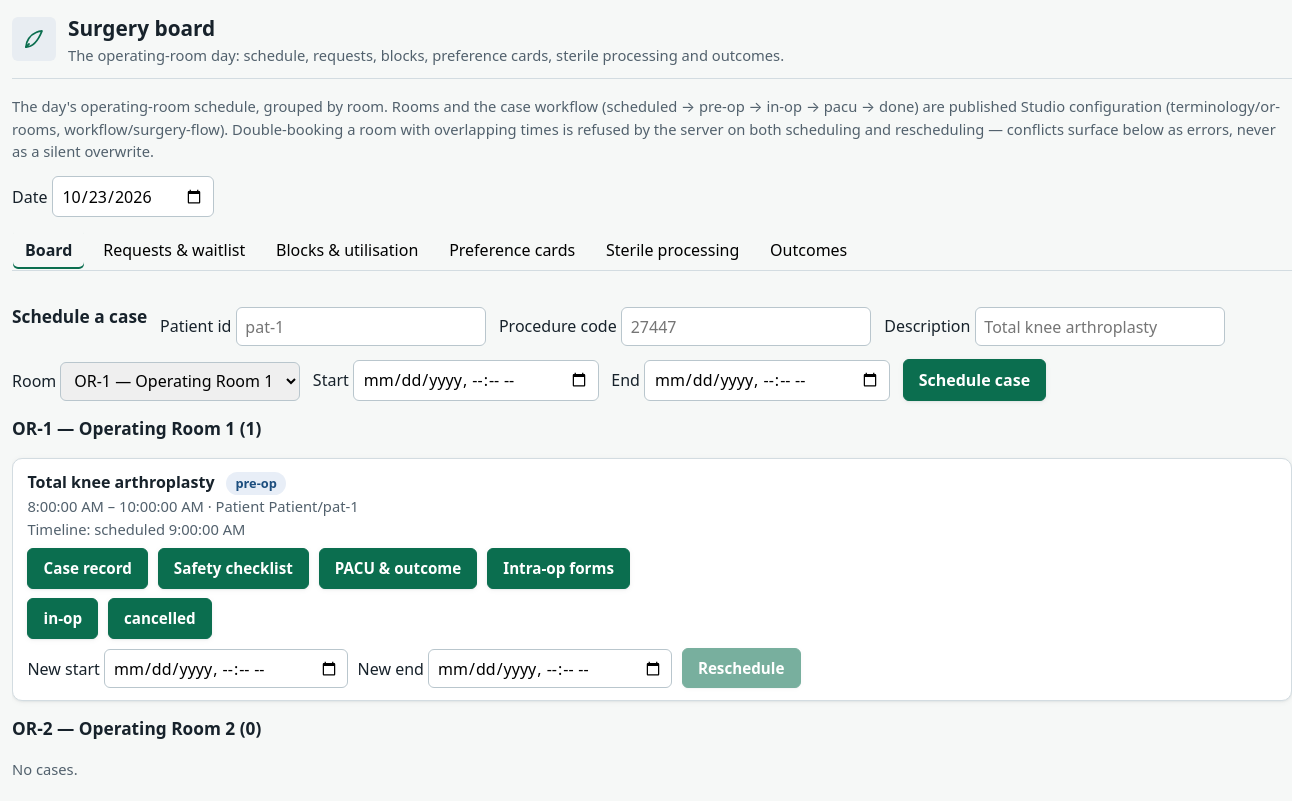
SurgeryBoardPage › surfaces the safety gate 409 inline when a transition is refused
This screenshot has width=1292, height=801.
Expected: the text "Total knee arthroplasty" is shown, 27,471 -> 214,493
Click the button "in-op": {"x": 63, "y": 618} 27,598 -> 98,639
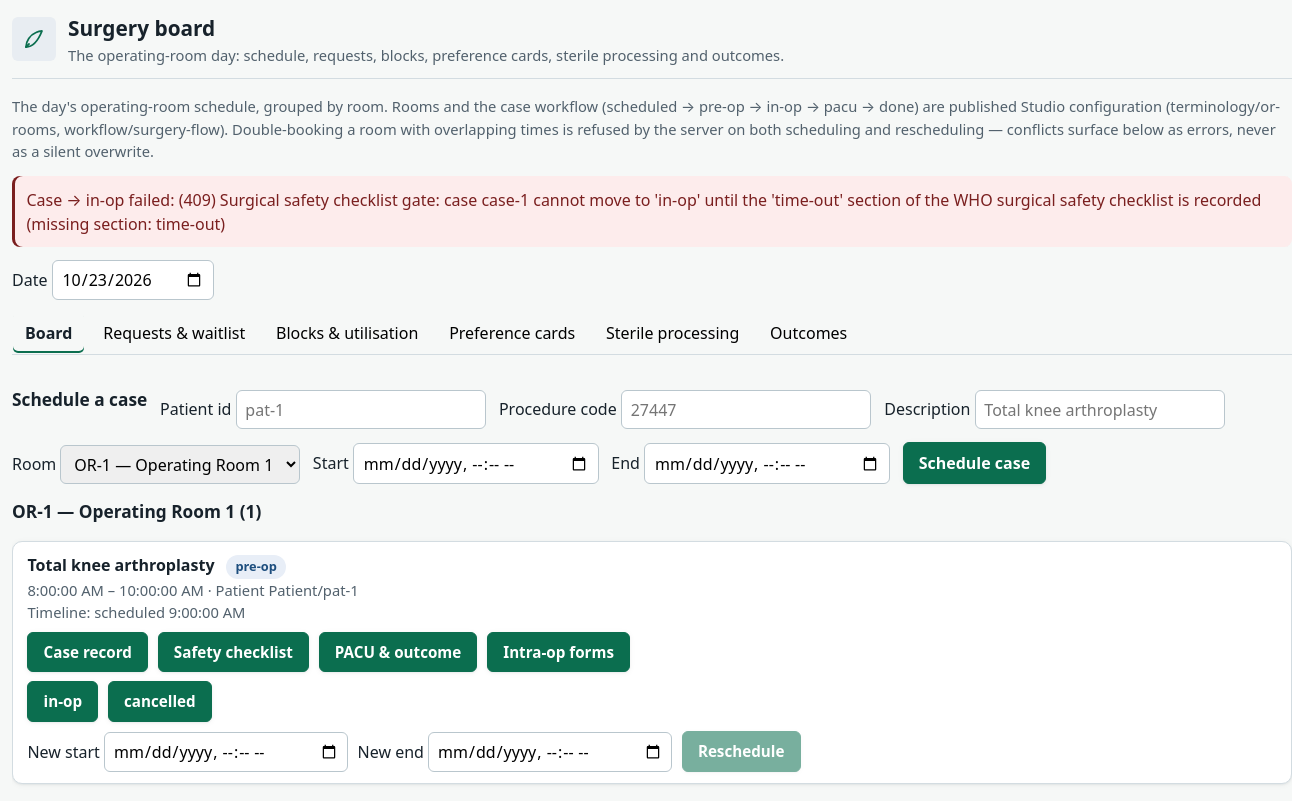
Result: the text "missing section: time-out" is shown at 26,189 -> 1261,235
